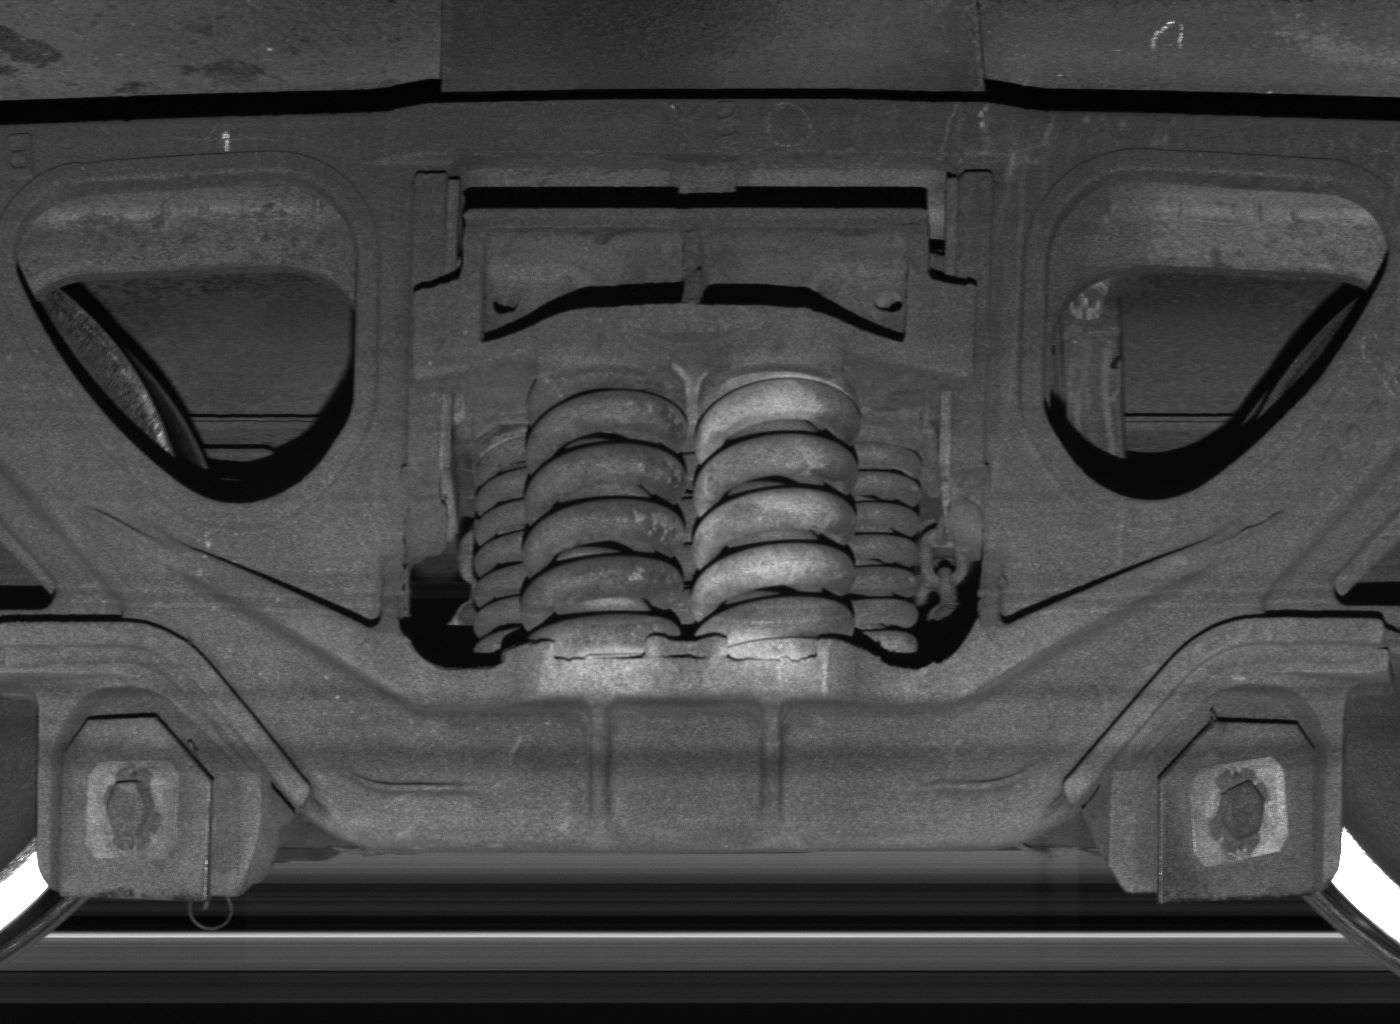normal: (1110, 689, 1342, 904), (35, 691, 259, 899)
